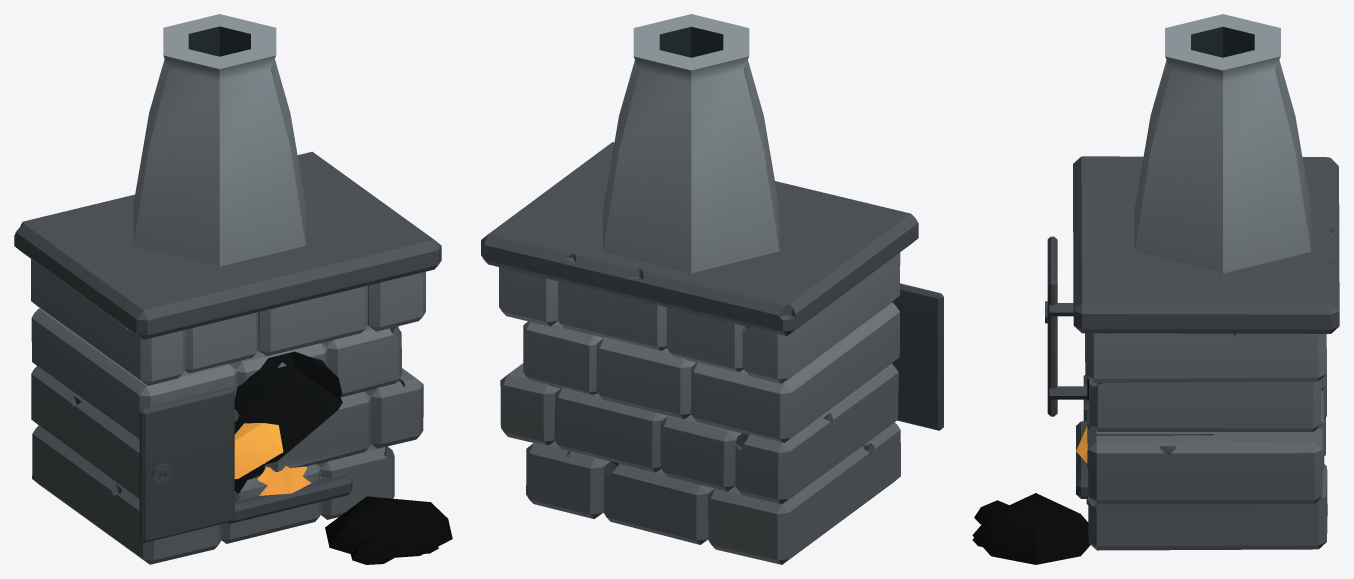
The model's file is furnace.glb.
3 views of the same model, side by side, from view 1: azimuth 30°, elevation 25°; view 2: azimuth 150°, elevation 25°; view 3: azimuth 270°, elevation 25° (orthographic). The views are drawn at different scales.
Parts seen in each view (by area): view 1: furnace; view 2: furnace; view 3: furnace.
Part boxes in pixels (x1=…): furnace: x1=14, y1=14, x2=452, y2=564; furnace: x1=481, y1=14, x2=943, y2=564; furnace: x1=972, y1=14, x2=1339, y2=564.
Size of the model in its own units: 2.23 by 3.01 by 2.2.
Materials: 2 (2 with a texture image).
